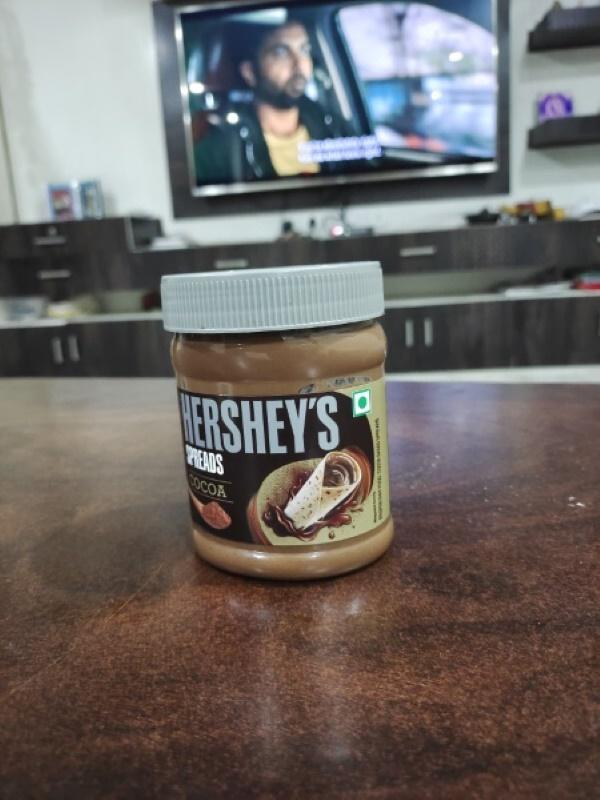Hershey-s: (138, 260, 435, 593)
